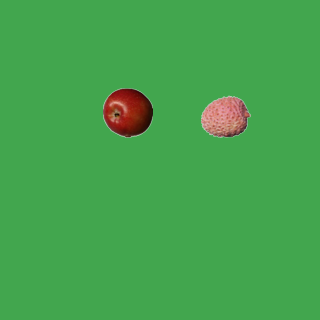Apple Braeburn: (102, 87, 152, 137)
Lychee: (200, 91, 250, 141)
